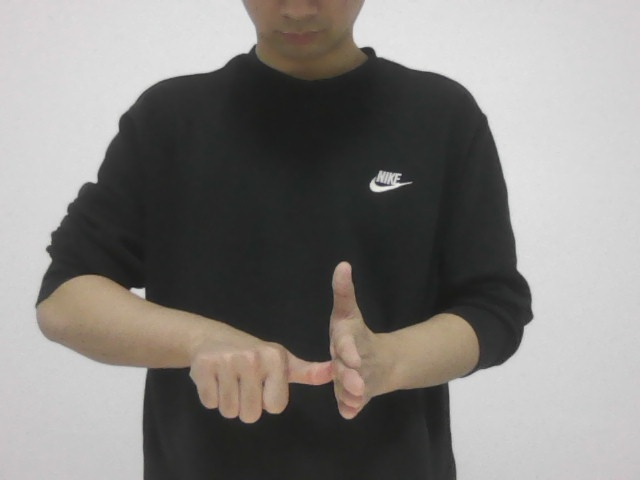time: (181, 263, 393, 421)
